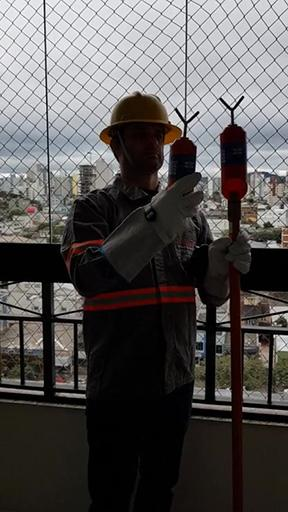Detector_Tensao_Contato: (217, 95, 248, 202), (168, 107, 199, 197)
Vara_Manobra: (226, 194, 246, 512)
